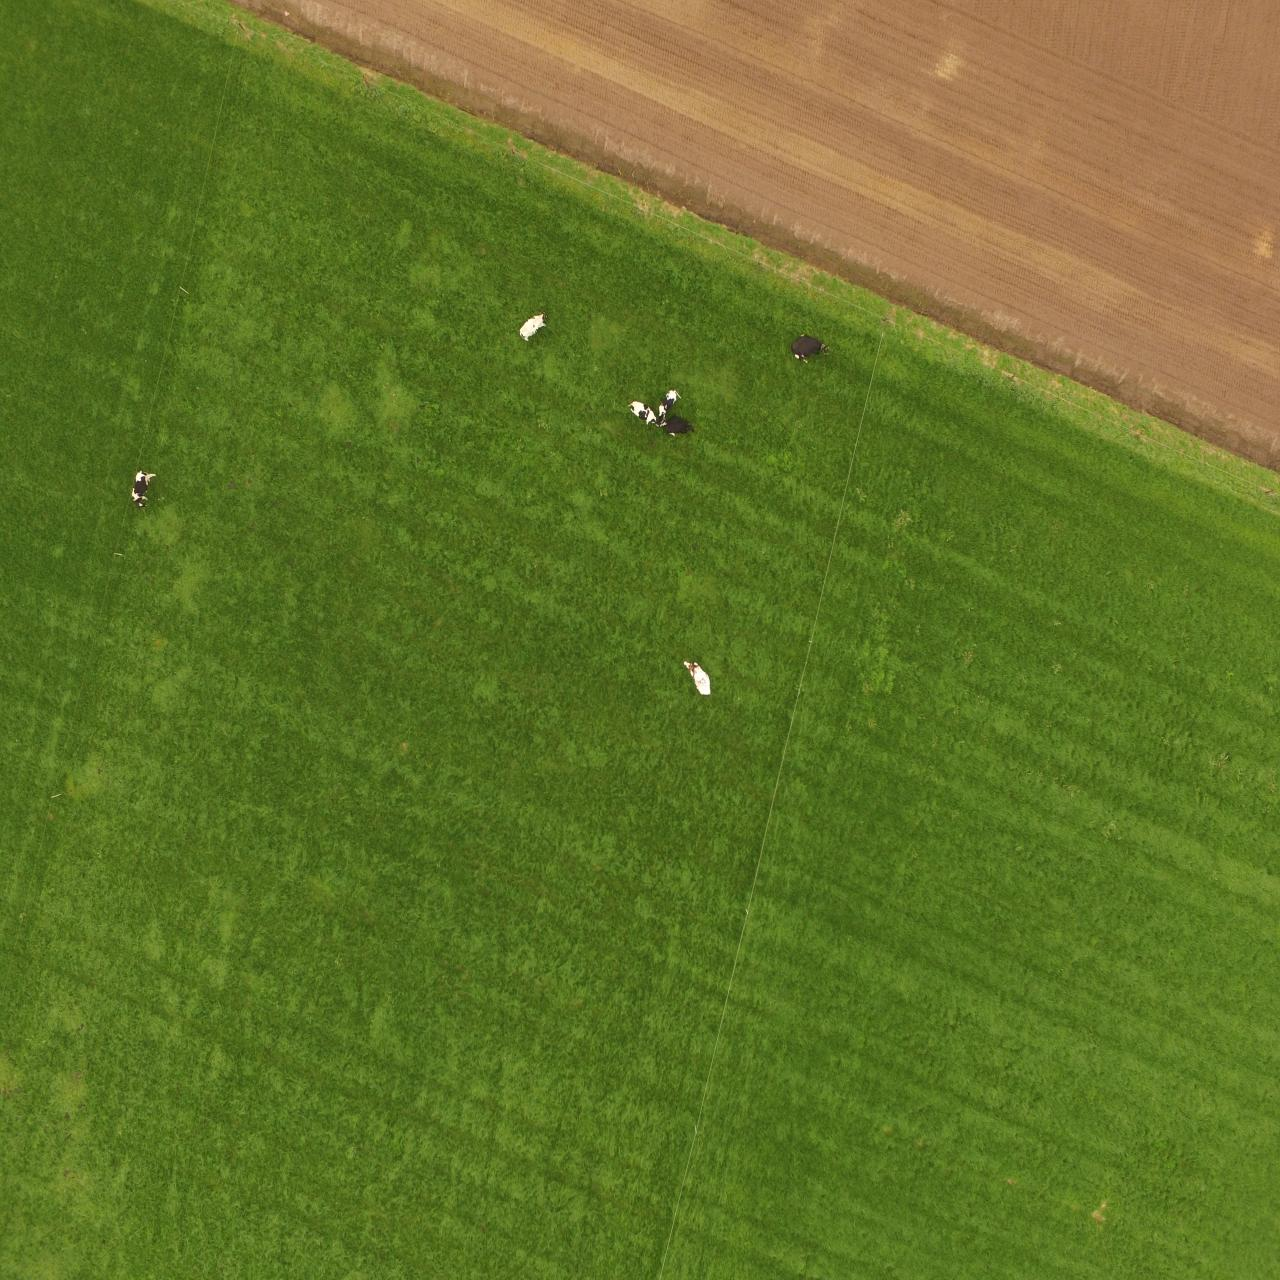cow: (128, 463, 158, 519), (515, 302, 549, 346), (791, 333, 833, 366), (683, 658, 715, 701), (627, 400, 660, 429), (667, 416, 697, 441), (654, 384, 681, 410)
